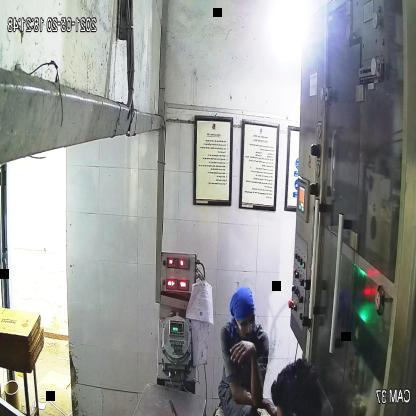goggles: (234, 312, 256, 333)
